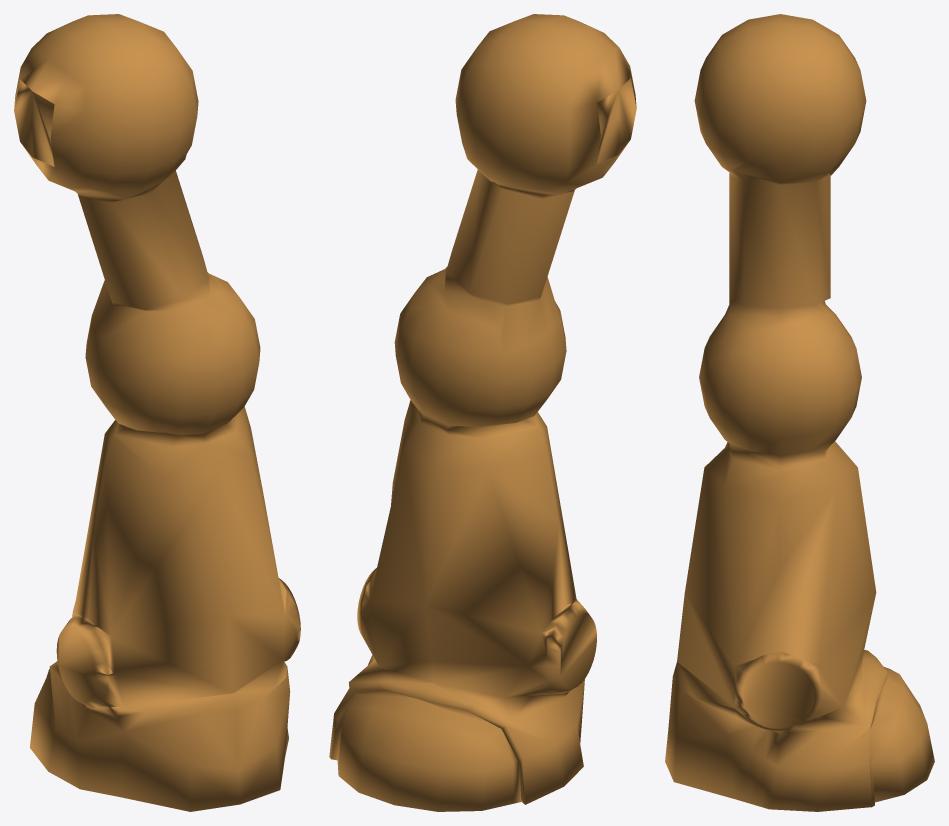
The model's file is Foot_R (1).fbx.
3 renders of one model, left to right at view 1: azimuth 30°, elevation 25°; view 2: azimuth 150°, elevation 25°; view 3: azimuth 270°, elevation 25°, orthographic. The views are drawn at different scales.
Parts seen in each view (by area): view 1: Nails.002; view 2: Nails.002; view 3: Nails.002.
Boxes of the visible parts, left/top/right/bottom form: Nails.002: left=14, top=14, right=300, bottom=811; Nails.002: left=329, top=14, right=636, bottom=811; Nails.002: left=665, top=14, right=934, bottom=811.
Size of the model in its own units: 24.28 by 68.19 by 23.64.
